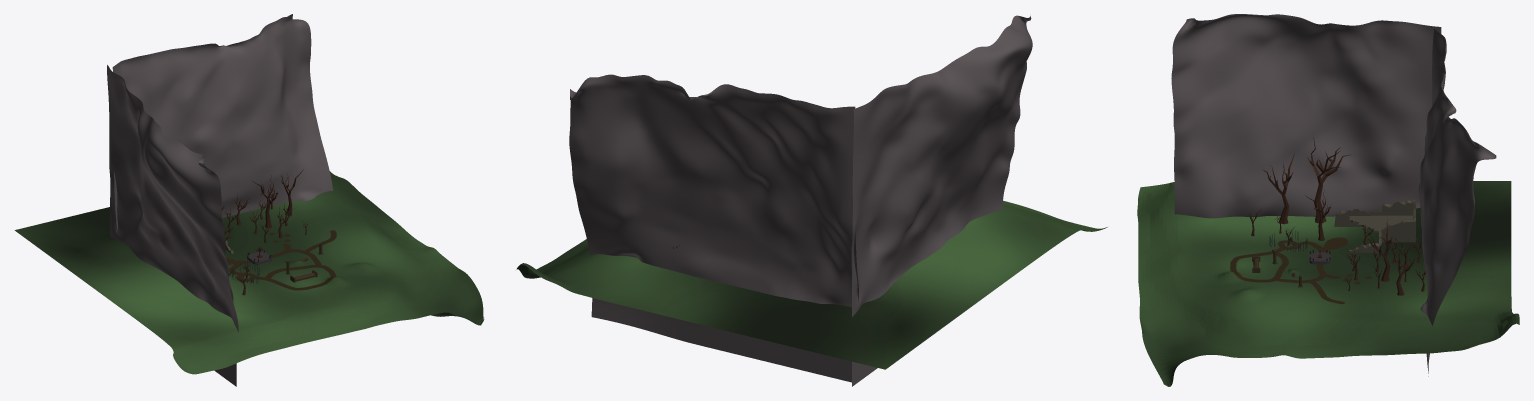
Rendered from map_projet_visuel.glb.
3 renders of one model, left to right at view 1: azimuth 30°, elevation 25°; view 2: azimuth 150°, elevation 25°; view 3: azimuth 270°, elevation 25°, orthographic. The views are drawn at different scales.
Parts seen in each view (by area): view 1: Cliff.001, Sol; view 2: Cliff.001, Sol; view 3: Cliff.001, Sol, Mansion, tree.006, tree.003, tree.016.
Boxes of the visible parts, x1,y1,x2,y2 form: Cliff.001: (107, 14, 333, 386); Sol: (14, 171, 484, 374); Cliff.001: (569, 15, 1032, 386); Sol: (516, 200, 1107, 369); Cliff.001: (1171, 14, 1496, 376); Sol: (1137, 181, 1519, 386); Mansion: (1334, 199, 1415, 252); tree.006: (1307, 137, 1350, 223); tree.003: (1263, 153, 1294, 224); tree.016: (1366, 219, 1392, 281).
Size of what is drawn, in the model's own units: 212 by 148 by 210.
Materials: 31 (31 with a texture image).
